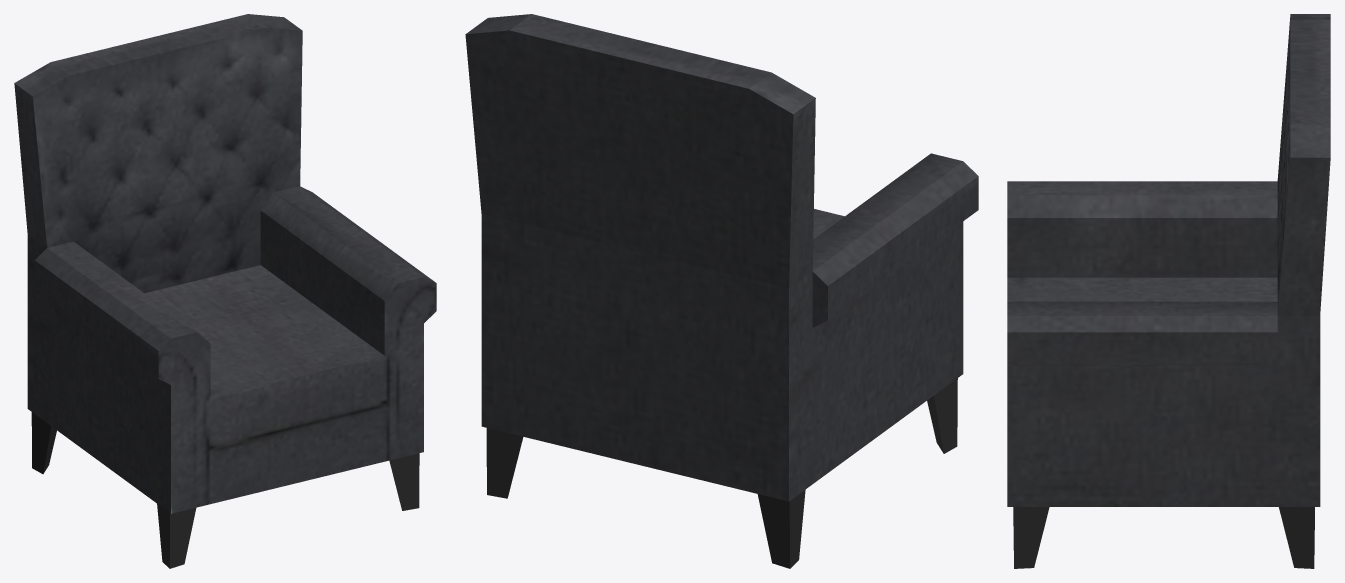
File: poltrona_b.glb
3 renders of one model, left to right at view 1: azimuth 30°, elevation 25°; view 2: azimuth 150°, elevation 25°; view 3: azimuth 270°, elevation 25°, orthographic. The views are drawn at different scales.
Visible parts, largest first — view 1: poltrona_b; view 2: poltrona_b; view 3: poltrona_b.
Boxes of the visible parts, bbox=[...] form: poltrona_b: bbox=[14, 14, 436, 568]; poltrona_b: bbox=[465, 14, 978, 568]; poltrona_b: bbox=[1007, 14, 1330, 568].
Bounding box in the file's own units: 0.9048 × 1.23 × 0.8358.
Materials: 1 (1 with a texture image).
